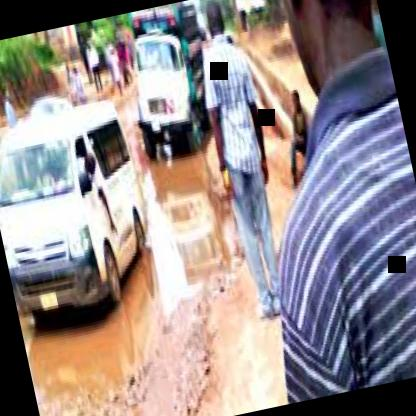car: (0, 99, 169, 333)
